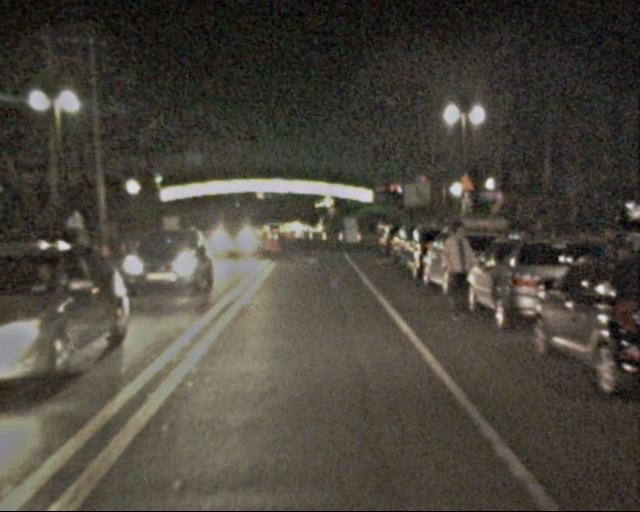person: (436, 221, 479, 327)
